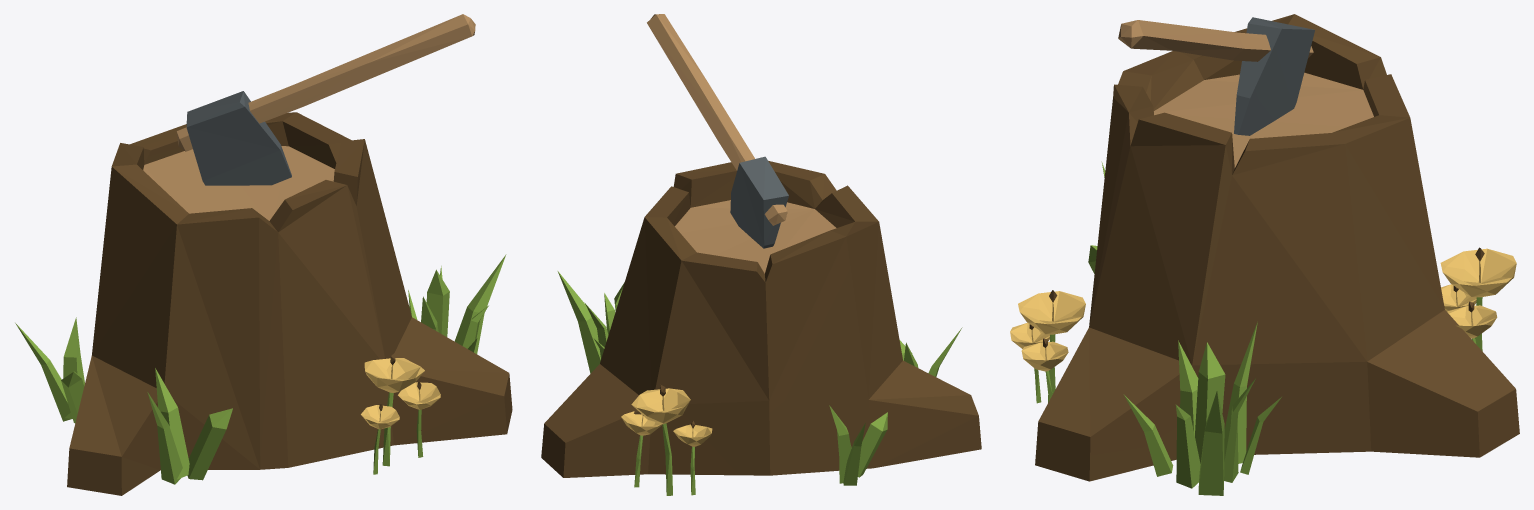
Rendered from Stump_11.fbx.
3 views of the same model, side by side, from view 1: azimuth 30°, elevation 25°; view 2: azimuth 150°, elevation 25°; view 3: azimuth 270°, elevation 25° (orthographic). The views are drawn at different scales.
Parts seen in each view (by area): view 1: Stump_11; view 2: Stump_11; view 3: Stump_11.
Boxes of the visible parts, <box> form: Stump_11: <box>15,14,512,495</box>; Stump_11: <box>541,14,981,495</box>; Stump_11: <box>1010,14,1519,495</box>.
Bounding box in the file's own units: 78.88 × 64.91 × 65.75.
